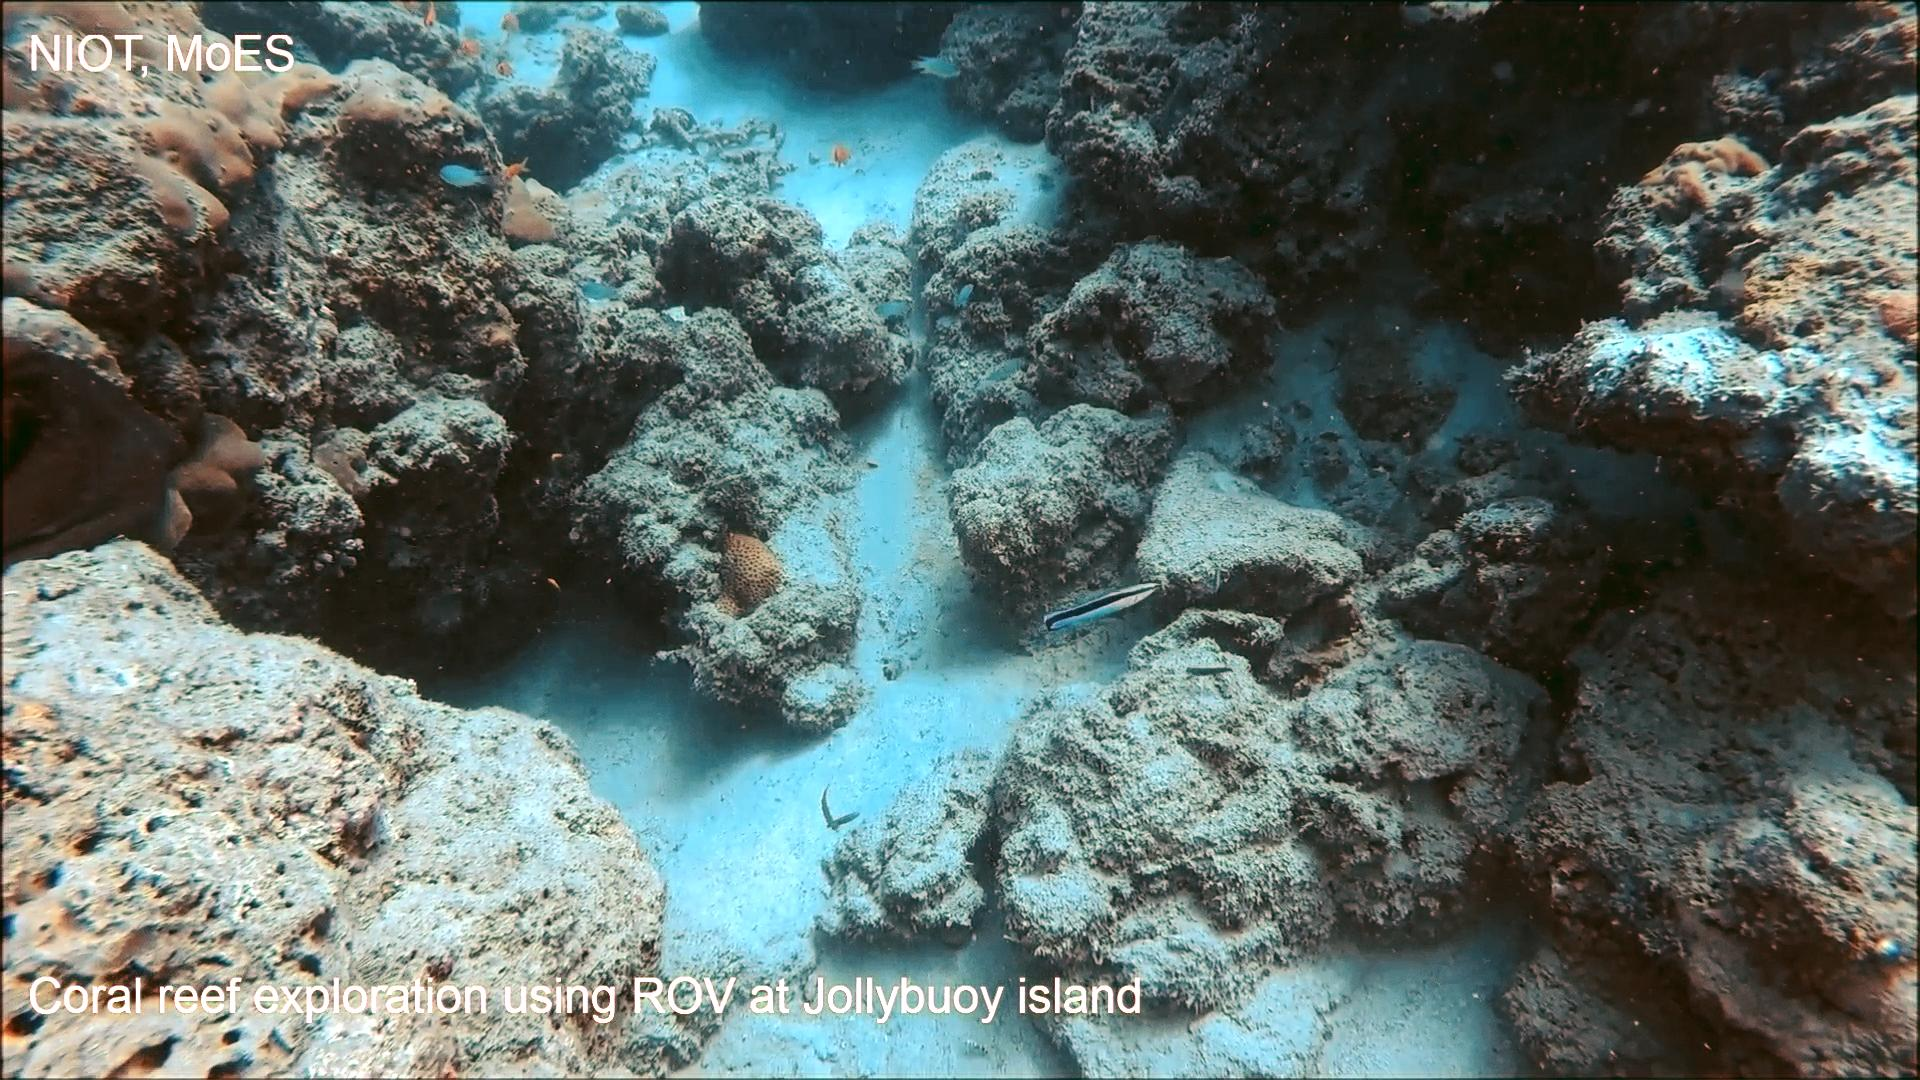Porites-Porites pukoensis: (3, 0, 347, 258)
